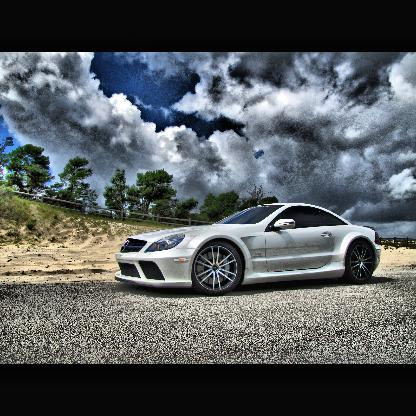Mercedes-Benz SL-Class Coupe 2009: (115, 202, 382, 297)
